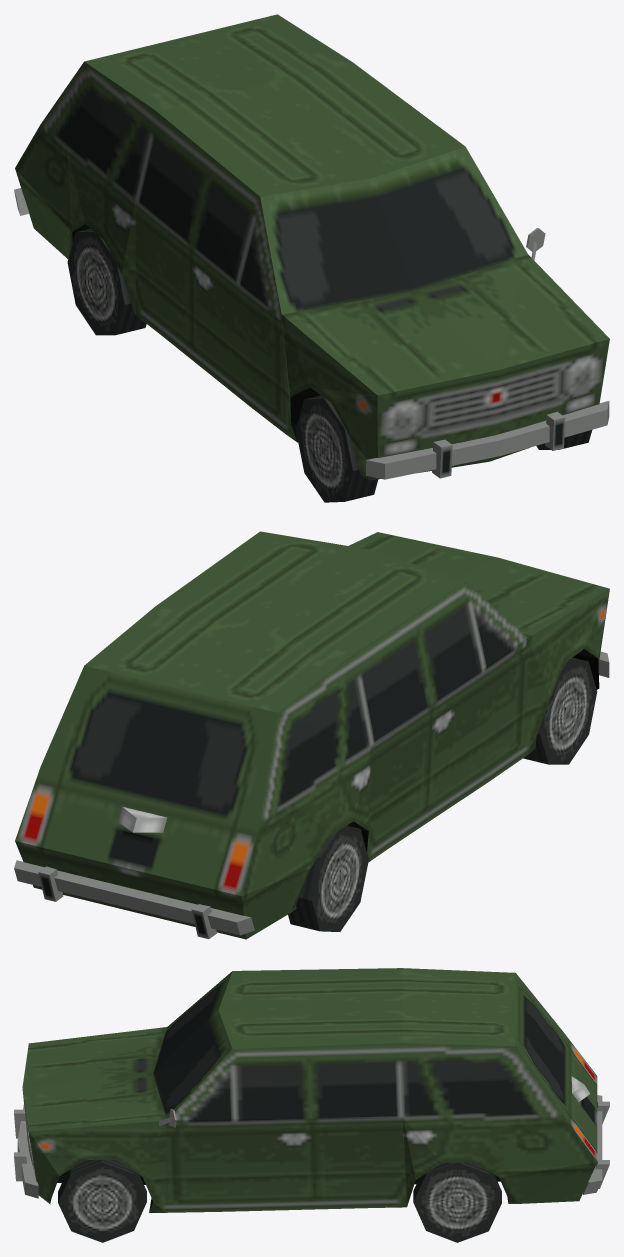
The model's file is car.obj.
3 views of the same model, one above another, from view 1: azimuth 30°, elevation 25°; view 2: azimuth 150°, elevation 25°; view 3: azimuth 270°, elevation 25° (orthographic). The views are drawn at different scales.
Visible parts, largest first — view 1: Car; view 2: Car; view 3: Car.
Boxes of the visible parts, left/top/right/bottom form: Car: left=14, top=14, right=609, bottom=502; Car: left=14, top=531, right=609, bottom=939; Car: left=14, top=968, right=609, bottom=1242.
Size of the model in its own units: 2.56 by 2.17 by 6.15.
Materials: 1 (1 with a texture image).
